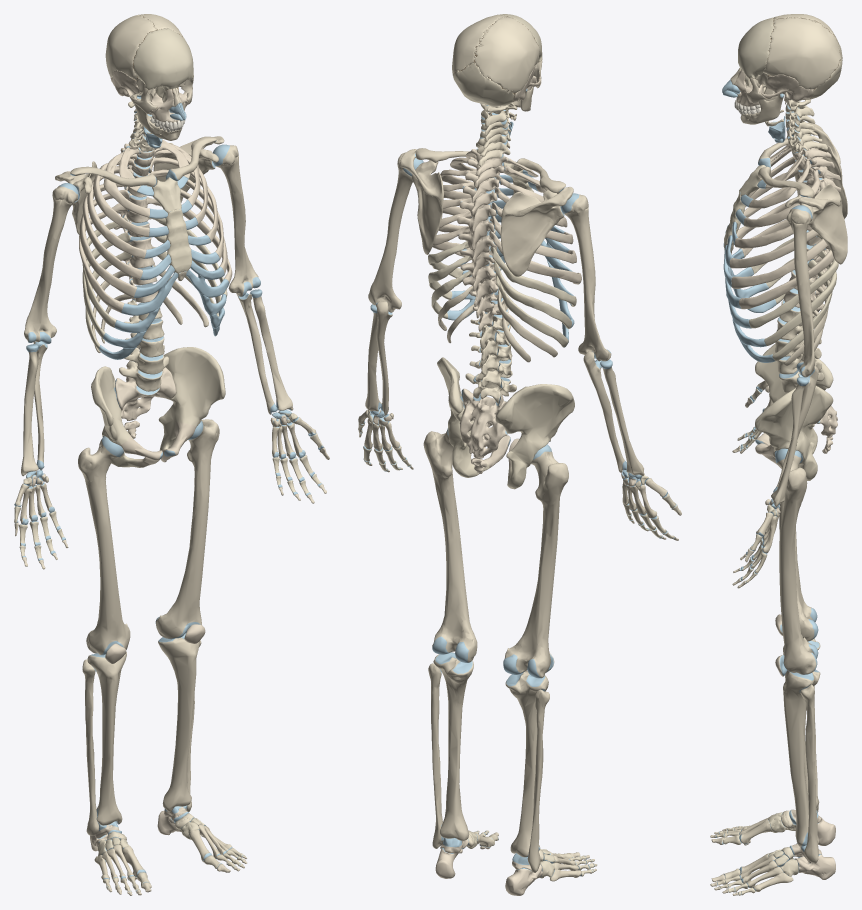
File: skeletal.glb
3 views of the same model, side by side, from view 1: azimuth 30°, elevation 25°; view 2: azimuth 150°, elevation 25°; view 3: azimuth 270°, elevation 25° (orthographic). The views are drawn at different scales.
Visible parts, largest first — view 1: Femur.r, Femur.l, Hip bone.l, Tibia.l, Frontal bone, Tibia.r, Humerus.r, Humerus.l, Hip bone.r, Parietal bone.r, Sacrum, Fibula.r (+18 smaller); view 2: Femur.r, Femur.l, Hip bone.r, Scapula.r, Parietal bone.r, Tibia.l, Tibia.r, Humerus.r, Humerus.l, Hip bone.l, Scapula.l, Sacrum (+15 smaller); view 3: Femur.l, Parietal bone.l, Tibia.l, Hip bone.l, Humerus.l, Scapula.l, Fibula.l, Frontal bone, Hip bone.r, Radius.l, Femur.r, Seventh rib.l (+28 smaller).
Boxes of the visible parts, x1,y1,x2,y2 form: Femur.r: [78, 436, 130, 655]; Femur.l: [155, 419, 219, 639]; Hip bone.l: [158, 347, 225, 462]; Tibia.l: [158, 633, 200, 811]; Frontal bone: [133, 28, 193, 91]; Tibia.r: [87, 652, 126, 825]; Humerus.r: [24, 183, 78, 344]; Humerus.l: [212, 144, 260, 296]; Hip bone.r: [91, 366, 162, 467]; Parietal bone.r: [105, 15, 157, 79]; Sacrum: [115, 367, 175, 420]; Fibula.r: [82, 659, 99, 835]; Femur.r: [503, 444, 568, 678]; Femur.l: [423, 428, 477, 662]; Hip bone.r: [495, 384, 574, 489]; Scapula.r: [500, 187, 573, 276]; Parietal bone.r: [474, 16, 539, 93]; Tibia.l: [433, 652, 473, 840]; Tibia.r: [505, 671, 548, 857]; Humerus.r: [561, 193, 611, 361]; Humerus.l: [368, 152, 423, 312]; Hip bone.l: [437, 357, 510, 477]; Scapula.l: [400, 149, 443, 254]; Sacrum: [459, 388, 507, 458]; Femur.l: [775, 448, 818, 674]; Parietal bone.l: [763, 17, 840, 89]; Tibia.l: [783, 669, 820, 846]; Hip bone.l: [755, 386, 833, 480]; Humerus.l: [786, 205, 815, 377]; Scapula.l: [785, 183, 847, 264]; Fibula.l: [800, 684, 818, 863]; Frontal bone: [738, 17, 774, 78]; Hip bone.r: [755, 343, 833, 453]; Radius.l: [771, 377, 808, 506]; Femur.r: [779, 470, 818, 641]; Seventh rib.l: [739, 249, 834, 309].
Bounding box in the file's own units: 0.6692 × 1.7 × 0.2501.
